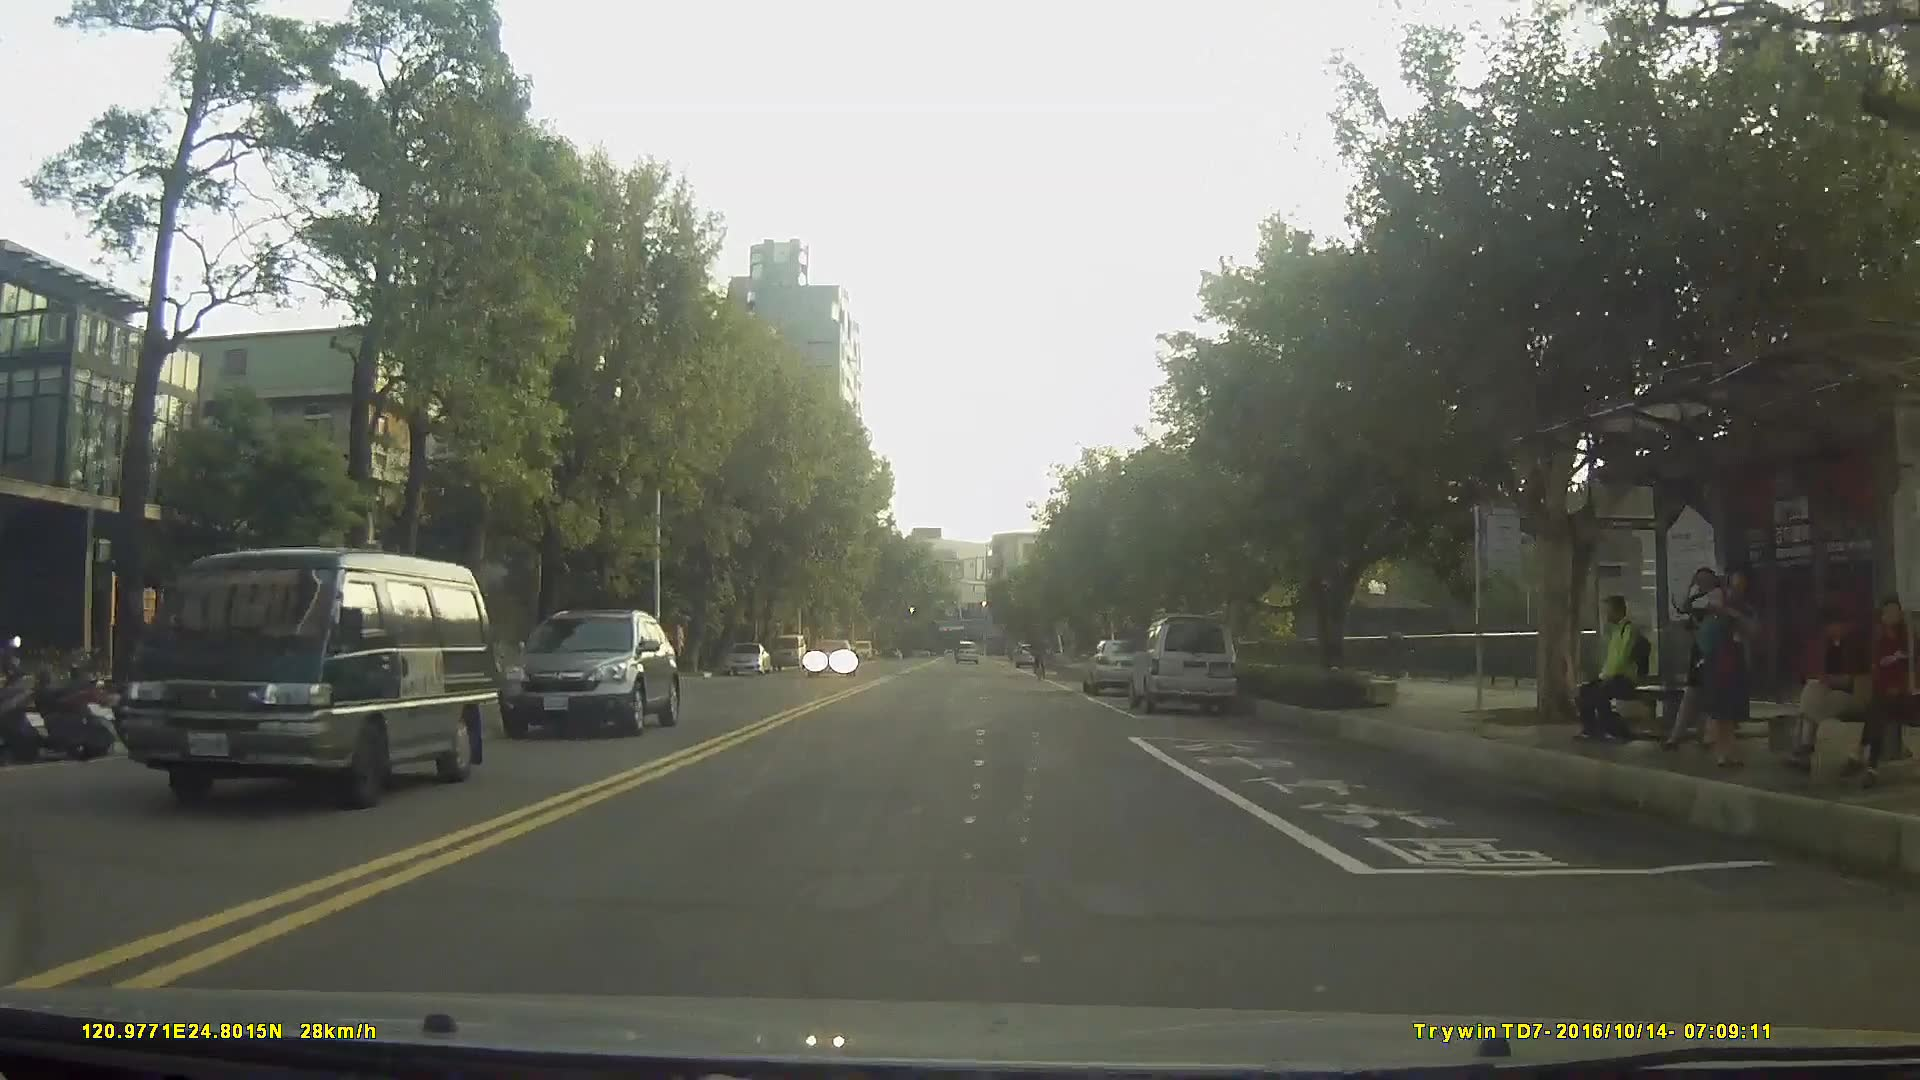pedestrian: (1786, 603, 1873, 779), (1683, 560, 1754, 770), (1578, 585, 1664, 748)
rider: (1030, 632, 1050, 685)
vehicle: (118, 543, 496, 810), (497, 606, 682, 733), (1130, 615, 1240, 714), (1083, 636, 1148, 694), (804, 636, 854, 677), (722, 639, 769, 676), (770, 630, 804, 673), (953, 637, 980, 666), (1015, 641, 1042, 667)
